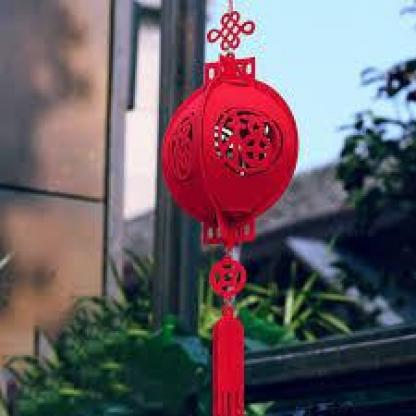other: (163, 52, 293, 259)
